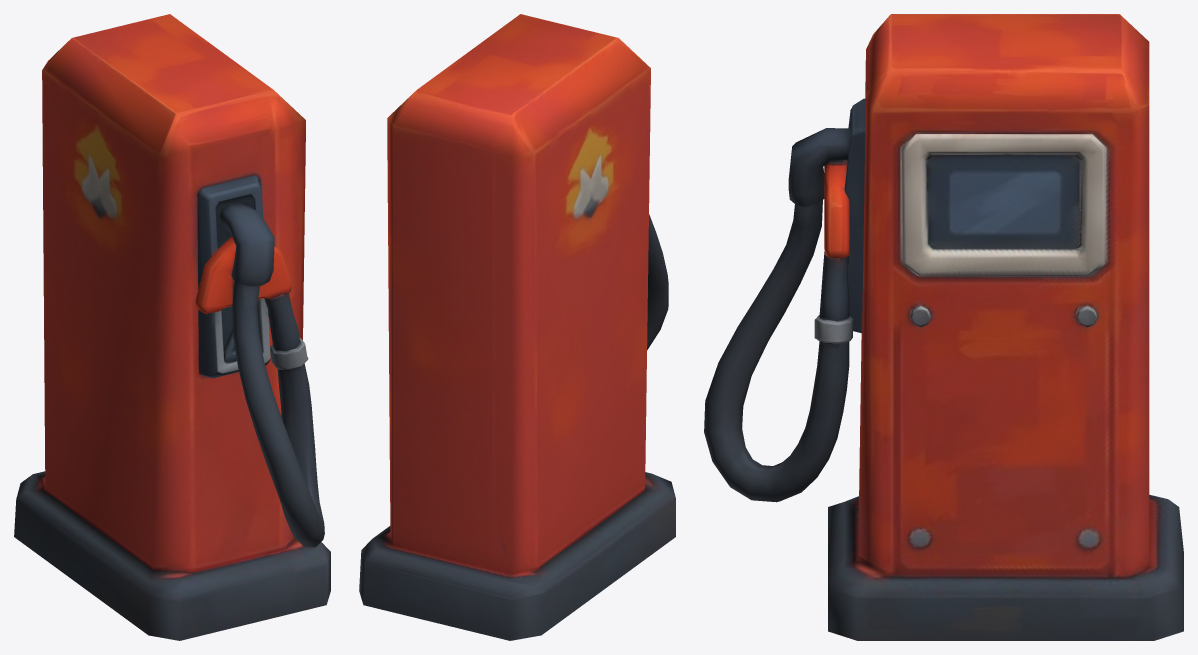
3 views of the same model, side by side, from view 1: azimuth 30°, elevation 25°; view 2: azimuth 150°, elevation 25°; view 3: azimuth 270°, elevation 25° (orthographic). The views are drawn at different scales.
Visible parts, largest first — view 1: tripo_node_b9b3cdd5-6bdc-4c12-91f5-40ef54d9d6c2; view 2: tripo_node_b9b3cdd5-6bdc-4c12-91f5-40ef54d9d6c2; view 3: tripo_node_b9b3cdd5-6bdc-4c12-91f5-40ef54d9d6c2.
Boxes of the visible parts, x1,y1,x2,y2 form: tripo_node_b9b3cdd5-6bdc-4c12-91f5-40ef54d9d6c2: (14, 14, 330, 640); tripo_node_b9b3cdd5-6bdc-4c12-91f5-40ef54d9d6c2: (359, 14, 675, 640); tripo_node_b9b3cdd5-6bdc-4c12-91f5-40ef54d9d6c2: (704, 14, 1183, 640).
Size of the model in its own units: 0.3809 by 0.998 by 0.7871.
Materials: 1 (1 with a texture image).
